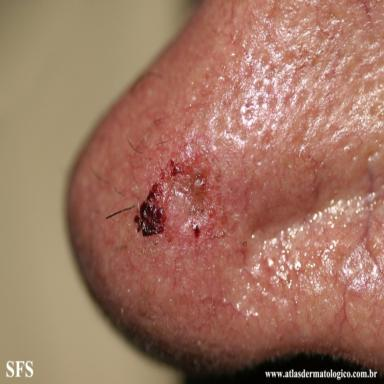basal-cell-carcinoma: (134, 141, 229, 249)
